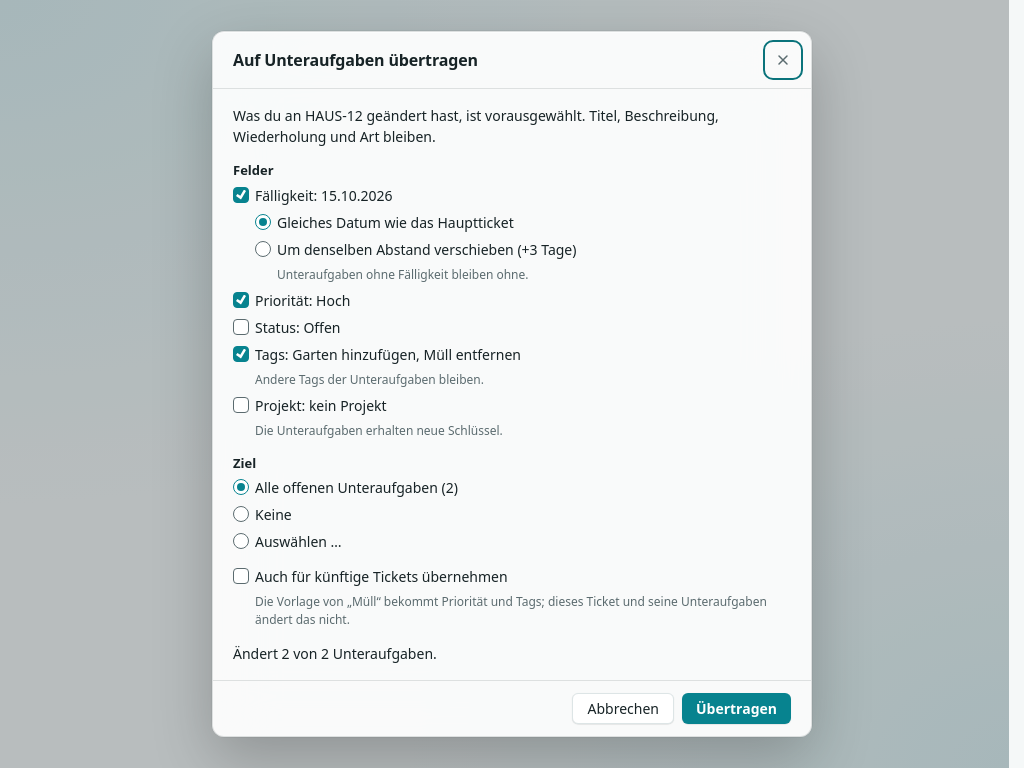
Test: the dialog after a change › says to open it anew on 409, without "Erneut versuchen"
Click the checkbox labelled "Auch für künftige Tickets übernehmen".
click(241, 576)  # box left=233, top=568, right=249, bottom=584
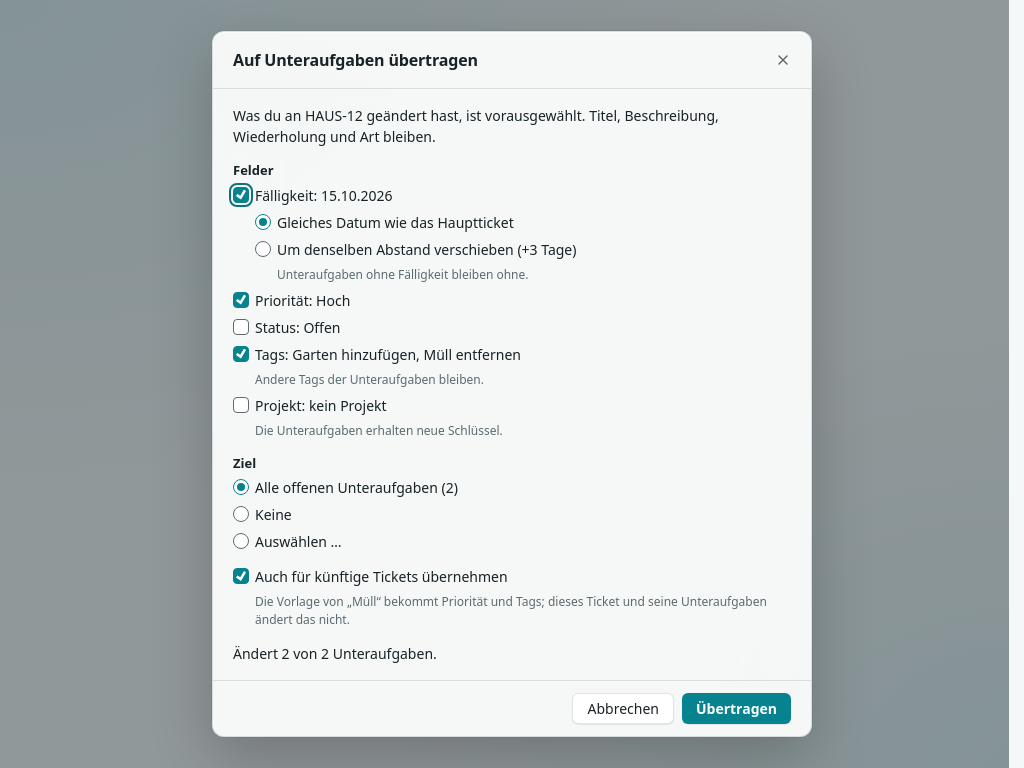
Click the button "Übertragen".
click(736, 708)  # box left=682, top=693, right=791, bottom=724
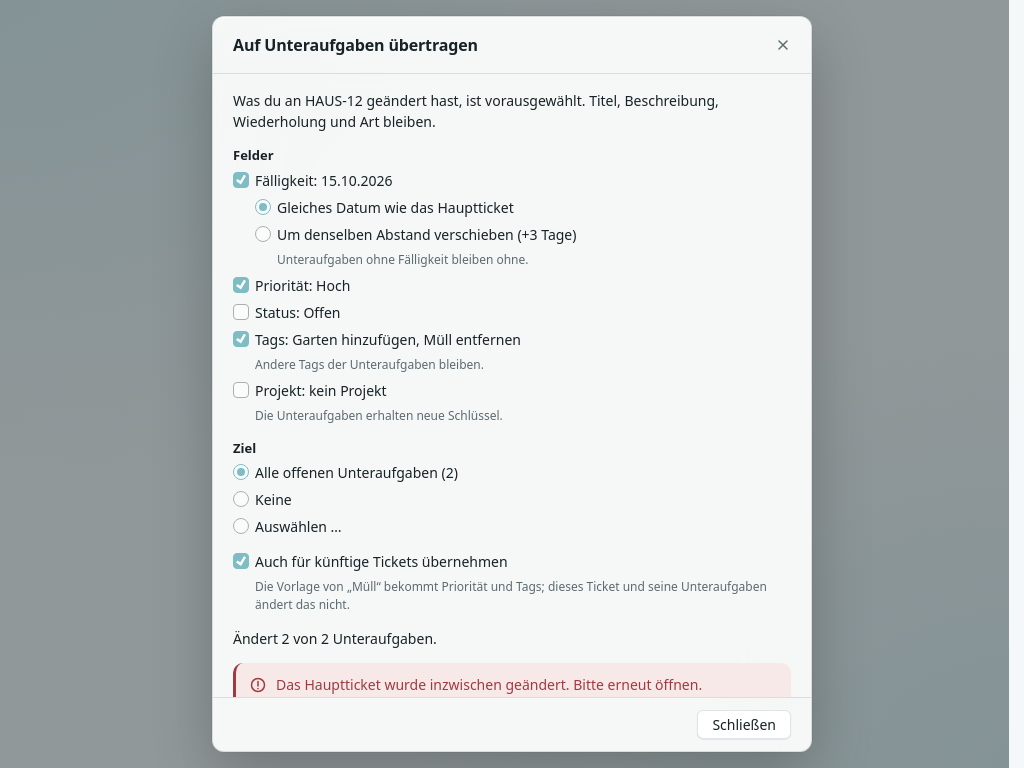
expect the message shows "Das Hauptticket wurde inzwischen geändert. Bitte erneut öffnen.": met, box left=276, top=675, right=702, bottom=694
